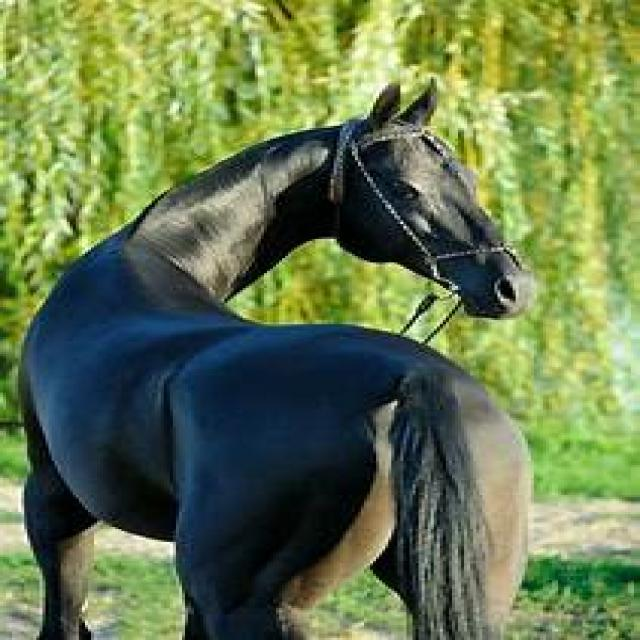horse: (21, 85, 531, 640)
